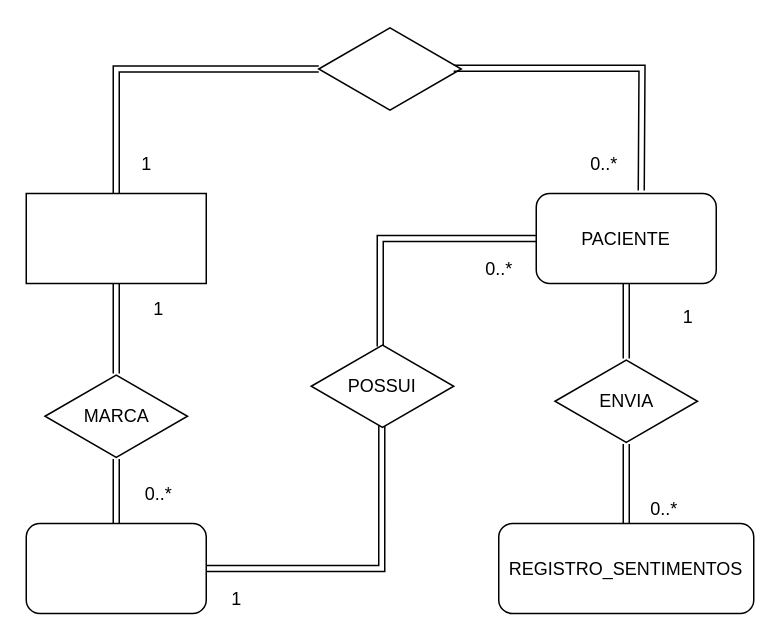
This 780x641 diagram has some shape labels left out. The shapes that lost their labels are listed below. From the top down, each one's centre as x and y in pixels, then its label:
At point 389,68: "CADASTRA".
At point 115,238: "PSICOLOGO".
At point 115,568: "AGENDA".
